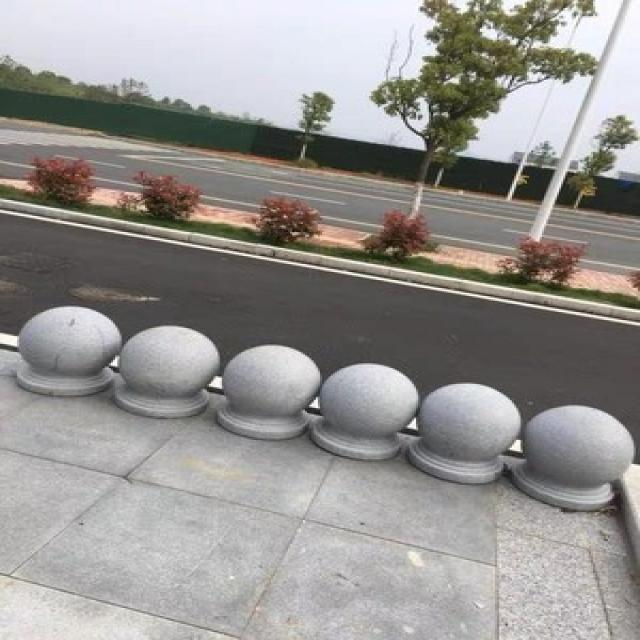spherical_roadblock: (506, 404, 636, 511), (406, 378, 520, 484), (305, 362, 418, 462), (215, 342, 318, 440), (115, 324, 222, 418), (15, 304, 119, 400)
